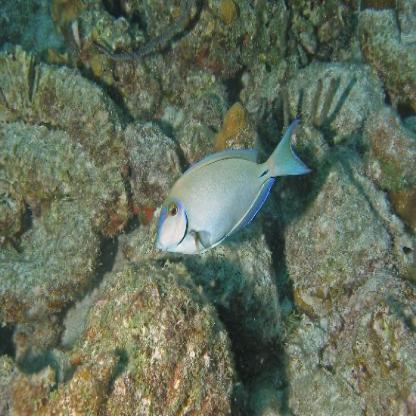Acanthuridae -Surgeonfishes-: (155, 118, 305, 257)
